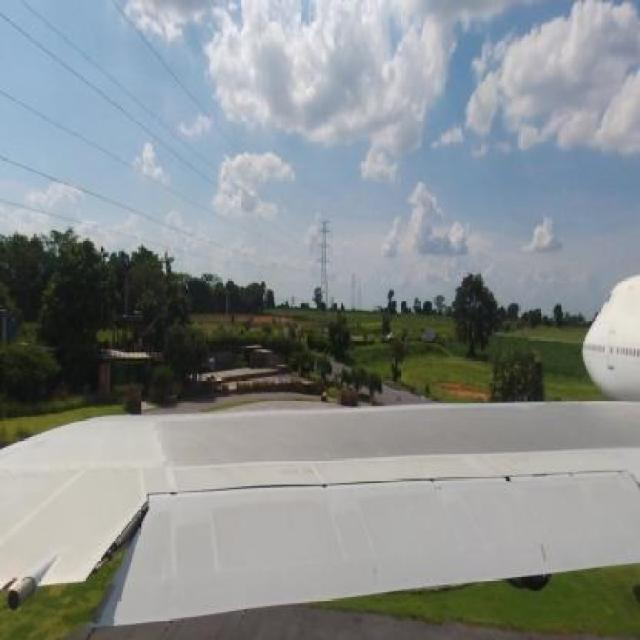Scartch: (527, 538, 555, 571)
